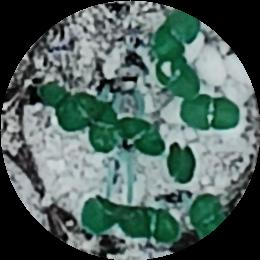Basil: (122, 207, 182, 244), (154, 7, 195, 59), (178, 98, 241, 129), (160, 55, 204, 99), (119, 119, 167, 158), (81, 190, 122, 234), (54, 91, 101, 128), (189, 195, 232, 234), (90, 104, 118, 157), (170, 145, 197, 182)
